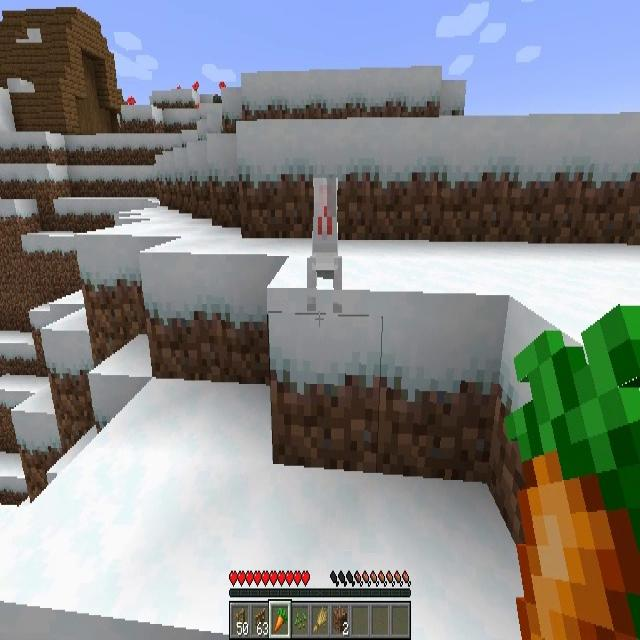rabbit: (309, 184, 345, 288)
